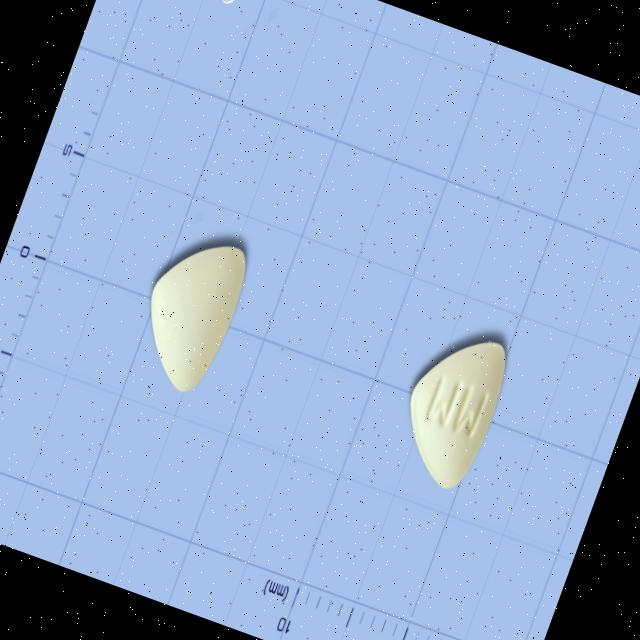Leflunomide: (384, 318, 518, 498), (123, 225, 257, 401)
